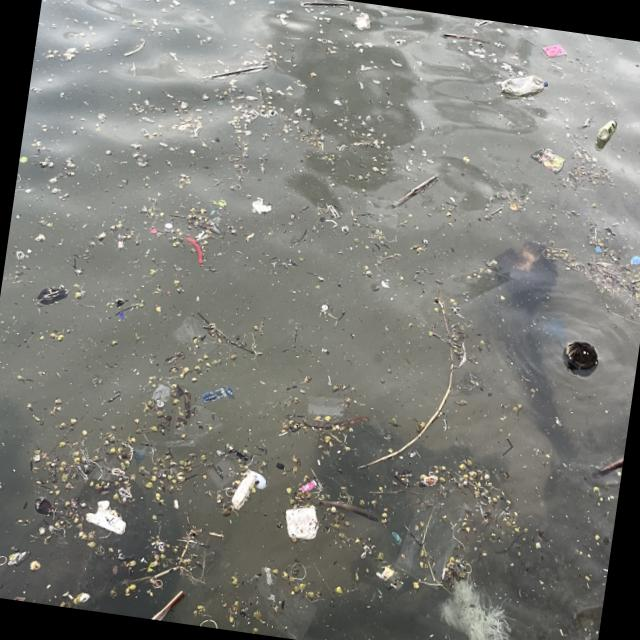foam: (84, 498, 130, 537), (231, 473, 258, 514), (204, 385, 237, 405)
plastic bottle: (500, 73, 549, 101), (599, 120, 619, 142)
